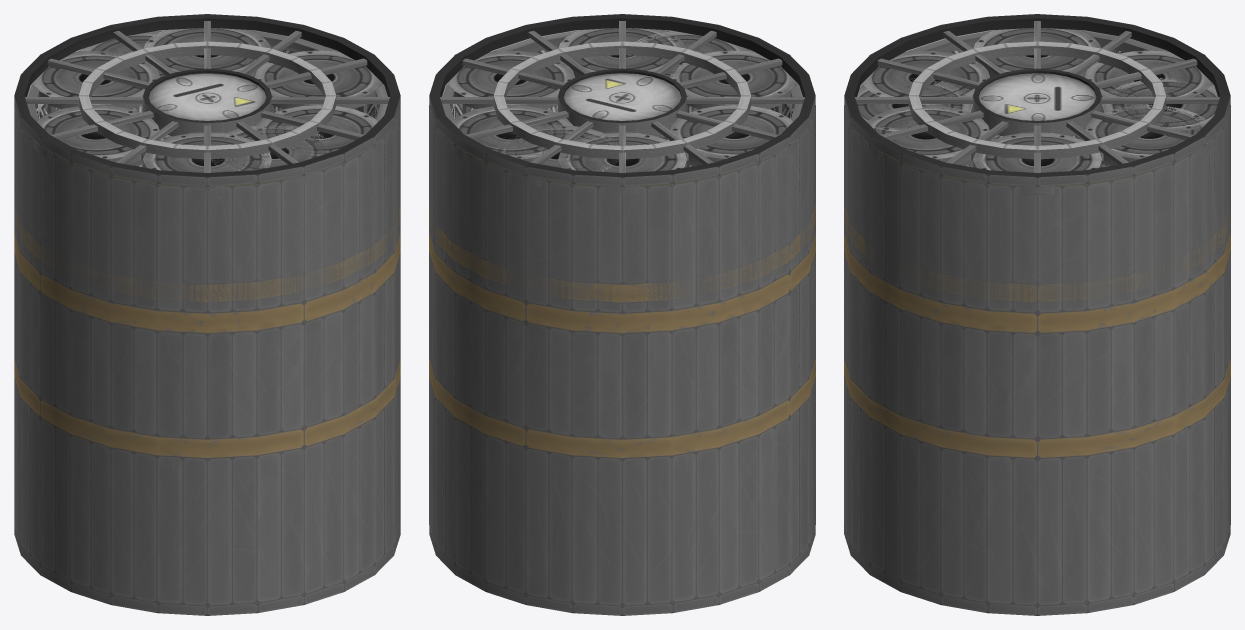
The model's file is InterstageAdapter.FBX.
3 renders of one model, left to right at view 1: azimuth 30°, elevation 25°; view 2: azimuth 150°, elevation 25°; view 3: azimuth 270°, elevation 25°, orthographic.
Visible parts, largest first — view 1: ShroudTube (×2), ShroudTube001, LowerSupportRing011, SingleEngineFrame001, ThrusterPlate, LowerSupportRing013, ThrusterPlate011, ThrusterPlate003, ThrusterPlate012, ThrusterPlate006, ThrusterPlate005, ThrusterPlate002 (+10 smaller); view 2: ShroudTube (×2), ShroudTube001, LowerSupportRing011, SingleEngineFrame001, ThrusterPlate, LowerSupportRing013, ThrusterPlate011, ThrusterPlate005, ThrusterPlate002, ThrusterPlate012, ThrusterPlate003, ThrusterPlate006 (+11 smaller); view 3: ShroudTube (×2), ShroudTube001, LowerSupportRing011, SingleEngineFrame001, ThrusterPlate, LowerSupportRing013, ThrusterPlate006, ThrusterPlate005, ThrusterPlate002, ThrusterPlate003, ThrusterPlate011, ThrusterPlate008 (+10 smaller).
Boxes of the visible parts, x1,y1,x2,y2 form: ShroudTube (×2): [14, 30, 400, 606]; ShroudTube001: [14, 107, 400, 303]; LowerSupportRing011: [14, 14, 400, 186]; SingleEngineFrame001: [78, 41, 336, 159]; ThrusterPlate: [143, 68, 271, 136]; LowerSupportRing013: [14, 526, 400, 615]; ThrusterPlate011: [255, 50, 381, 109]; ThrusterPlate003: [33, 50, 159, 109]; ThrusterPlate012: [33, 105, 159, 159]; ThrusterPlate006: [255, 105, 381, 159]; ThrusterPlate005: [143, 132, 271, 195]; ThrusterPlate002: [143, 28, 271, 77]; ShroudTube (×2): [429, 30, 815, 606]; ShroudTube001: [429, 106, 815, 303]; LowerSupportRing011: [429, 14, 815, 186]; SingleEngineFrame001: [493, 41, 751, 159]; ThrusterPlate: [558, 68, 686, 136]; LowerSupportRing013: [429, 526, 815, 615]; ThrusterPlate011: [448, 50, 574, 109]; ThrusterPlate005: [670, 50, 796, 109]; ThrusterPlate002: [449, 105, 574, 159]; ThrusterPlate012: [669, 105, 796, 164]; ThrusterPlate003: [558, 132, 686, 195]; ThrusterPlate006: [558, 28, 686, 77]; ShroudTube (×2): [844, 30, 1230, 606]; ShroudTube001: [844, 106, 1230, 303]; LowerSupportRing011: [844, 14, 1230, 186]; SingleEngineFrame001: [908, 41, 1166, 159]; ThrusterPlate: [973, 68, 1101, 136]; LowerSupportRing013: [844, 525, 1230, 615]; ThrusterPlate006: [864, 105, 990, 164]; ThrusterPlate005: [863, 50, 989, 104]; ThrusterPlate002: [1084, 105, 1211, 164]; ThrusterPlate003: [1085, 50, 1211, 104]; ThrusterPlate011: [973, 132, 1101, 195]; ThrusterPlate008: [1102, 78, 1230, 131].
Size of what is drawn, in the model's own units: 1.88 by 2.35 by 1.88.
